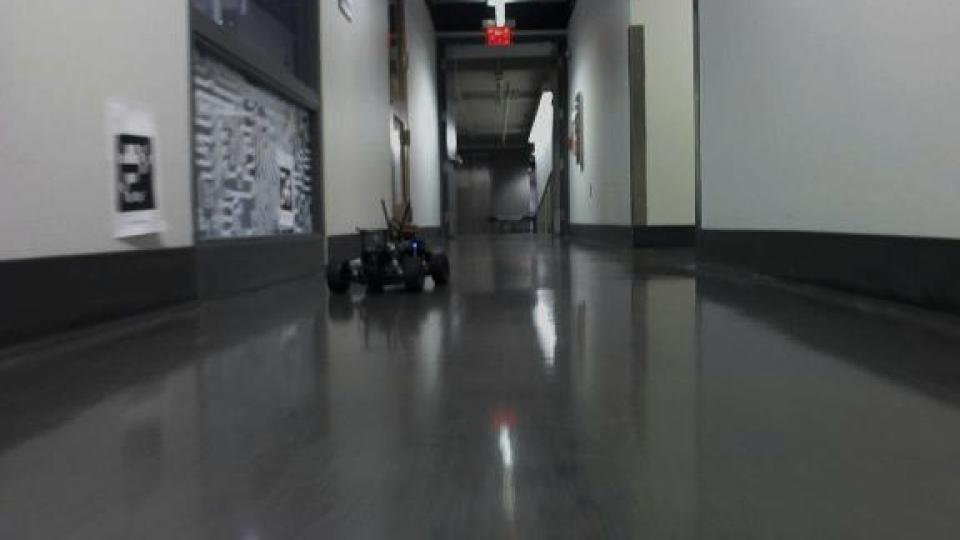car: (322, 197, 453, 300)
